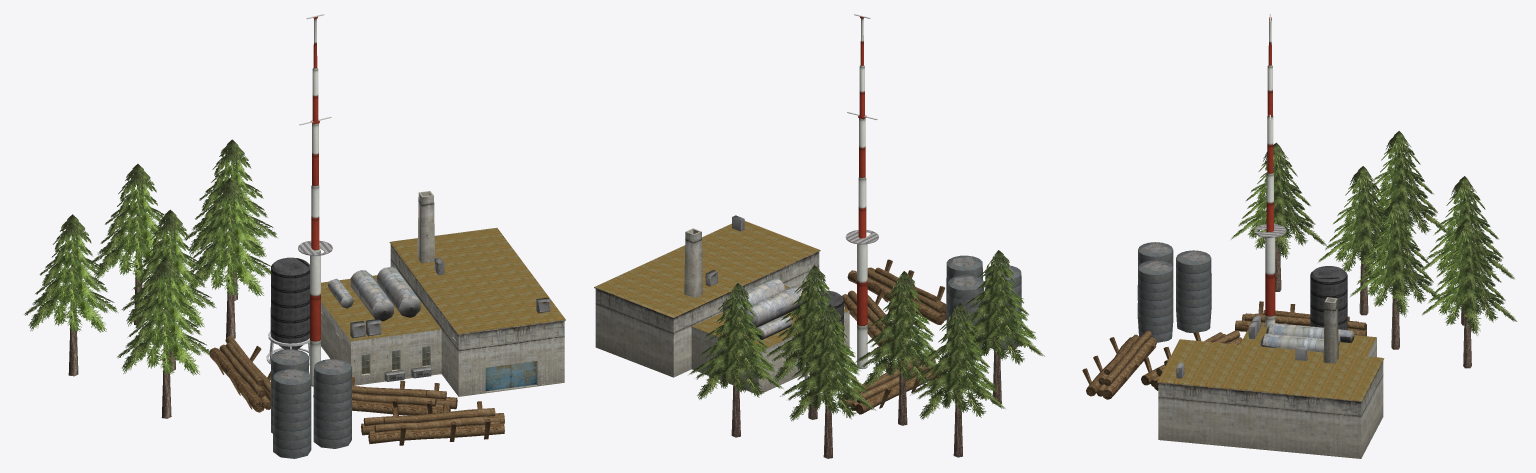
The model's file is wood_mine.fbx.
The picture shows the model from 3 angles, left to right: view 1: azimuth 30°, elevation 25°; view 2: azimuth 150°, elevation 25°; view 3: azimuth 270°, elevation 25°; orthographic projection. The views are drawn at different scales.
Visible parts, largest first — view 1: building3, mws_02, mws_04, mws_03, mws_05, Mesh Object1, mws_07, tank, tank2, mws_06, tank3, stolb (+3 smaller); view 2: building3, mws_06, mws_04, mws_05, mws_07, mws_02, mws_03, stolb, Mesh Object1, Mesh Object2, tank4, Mesh Object (+3 smaller); view 3: building3, mws_06, mws_03, mws_07, mws_02, mws_04, mws_05, tank4, tank3, stolb, Mesh Object1, tank (+3 smaller).
Boxes of the visible parts, bbox=[...] form: building3: bbox=[321, 191, 565, 396]; mws_02: bbox=[117, 257, 211, 418]; mws_04: bbox=[24, 214, 118, 376]; mws_03: bbox=[184, 178, 270, 338]; mws_05: bbox=[91, 164, 180, 324]; Mesh Object1: bbox=[361, 401, 504, 445]; mws_07: bbox=[121, 209, 216, 371]; tank: bbox=[266, 257, 309, 365]; tank2: bbox=[273, 369, 311, 458]; mws_06: bbox=[183, 139, 277, 300]; tank3: bbox=[313, 359, 351, 448]; stolb: bbox=[298, 14, 332, 386]; building3: bbox=[594, 215, 849, 394]; mws_06: bbox=[689, 283, 783, 437]; mws_04: bbox=[910, 303, 1005, 457]; mws_05: bbox=[780, 304, 876, 458]; mws_07: bbox=[855, 271, 943, 425]; mws_02: bbox=[955, 250, 1044, 404]; mws_03: bbox=[764, 265, 860, 419]; stolb: bbox=[845, 14, 878, 369]; Mesh Object1: bbox=[847, 259, 946, 324]; Mesh Object2: bbox=[838, 353, 946, 414]; tank4: bbox=[947, 275, 984, 359]; Mesh Object: bbox=[842, 288, 913, 352]; building3: bbox=[1157, 297, 1384, 458]; mws_06: bbox=[1422, 219, 1517, 368]; mws_03: bbox=[1349, 200, 1443, 349]; mws_07: bbox=[1318, 166, 1413, 315]; mws_02: bbox=[1231, 142, 1326, 291]; mws_04: bbox=[1370, 131, 1447, 266]; mws_05: bbox=[1422, 176, 1514, 325]; tank4: bbox=[1176, 250, 1211, 332]; tank3: bbox=[1137, 260, 1173, 342]; stolb: bbox=[1254, 14, 1286, 326]; Mesh Object1: bbox=[1082, 330, 1156, 399]; tank: bbox=[1310, 266, 1347, 329].
Bounding box in the file's own units: 45.13 × 34.87 × 40.73.
